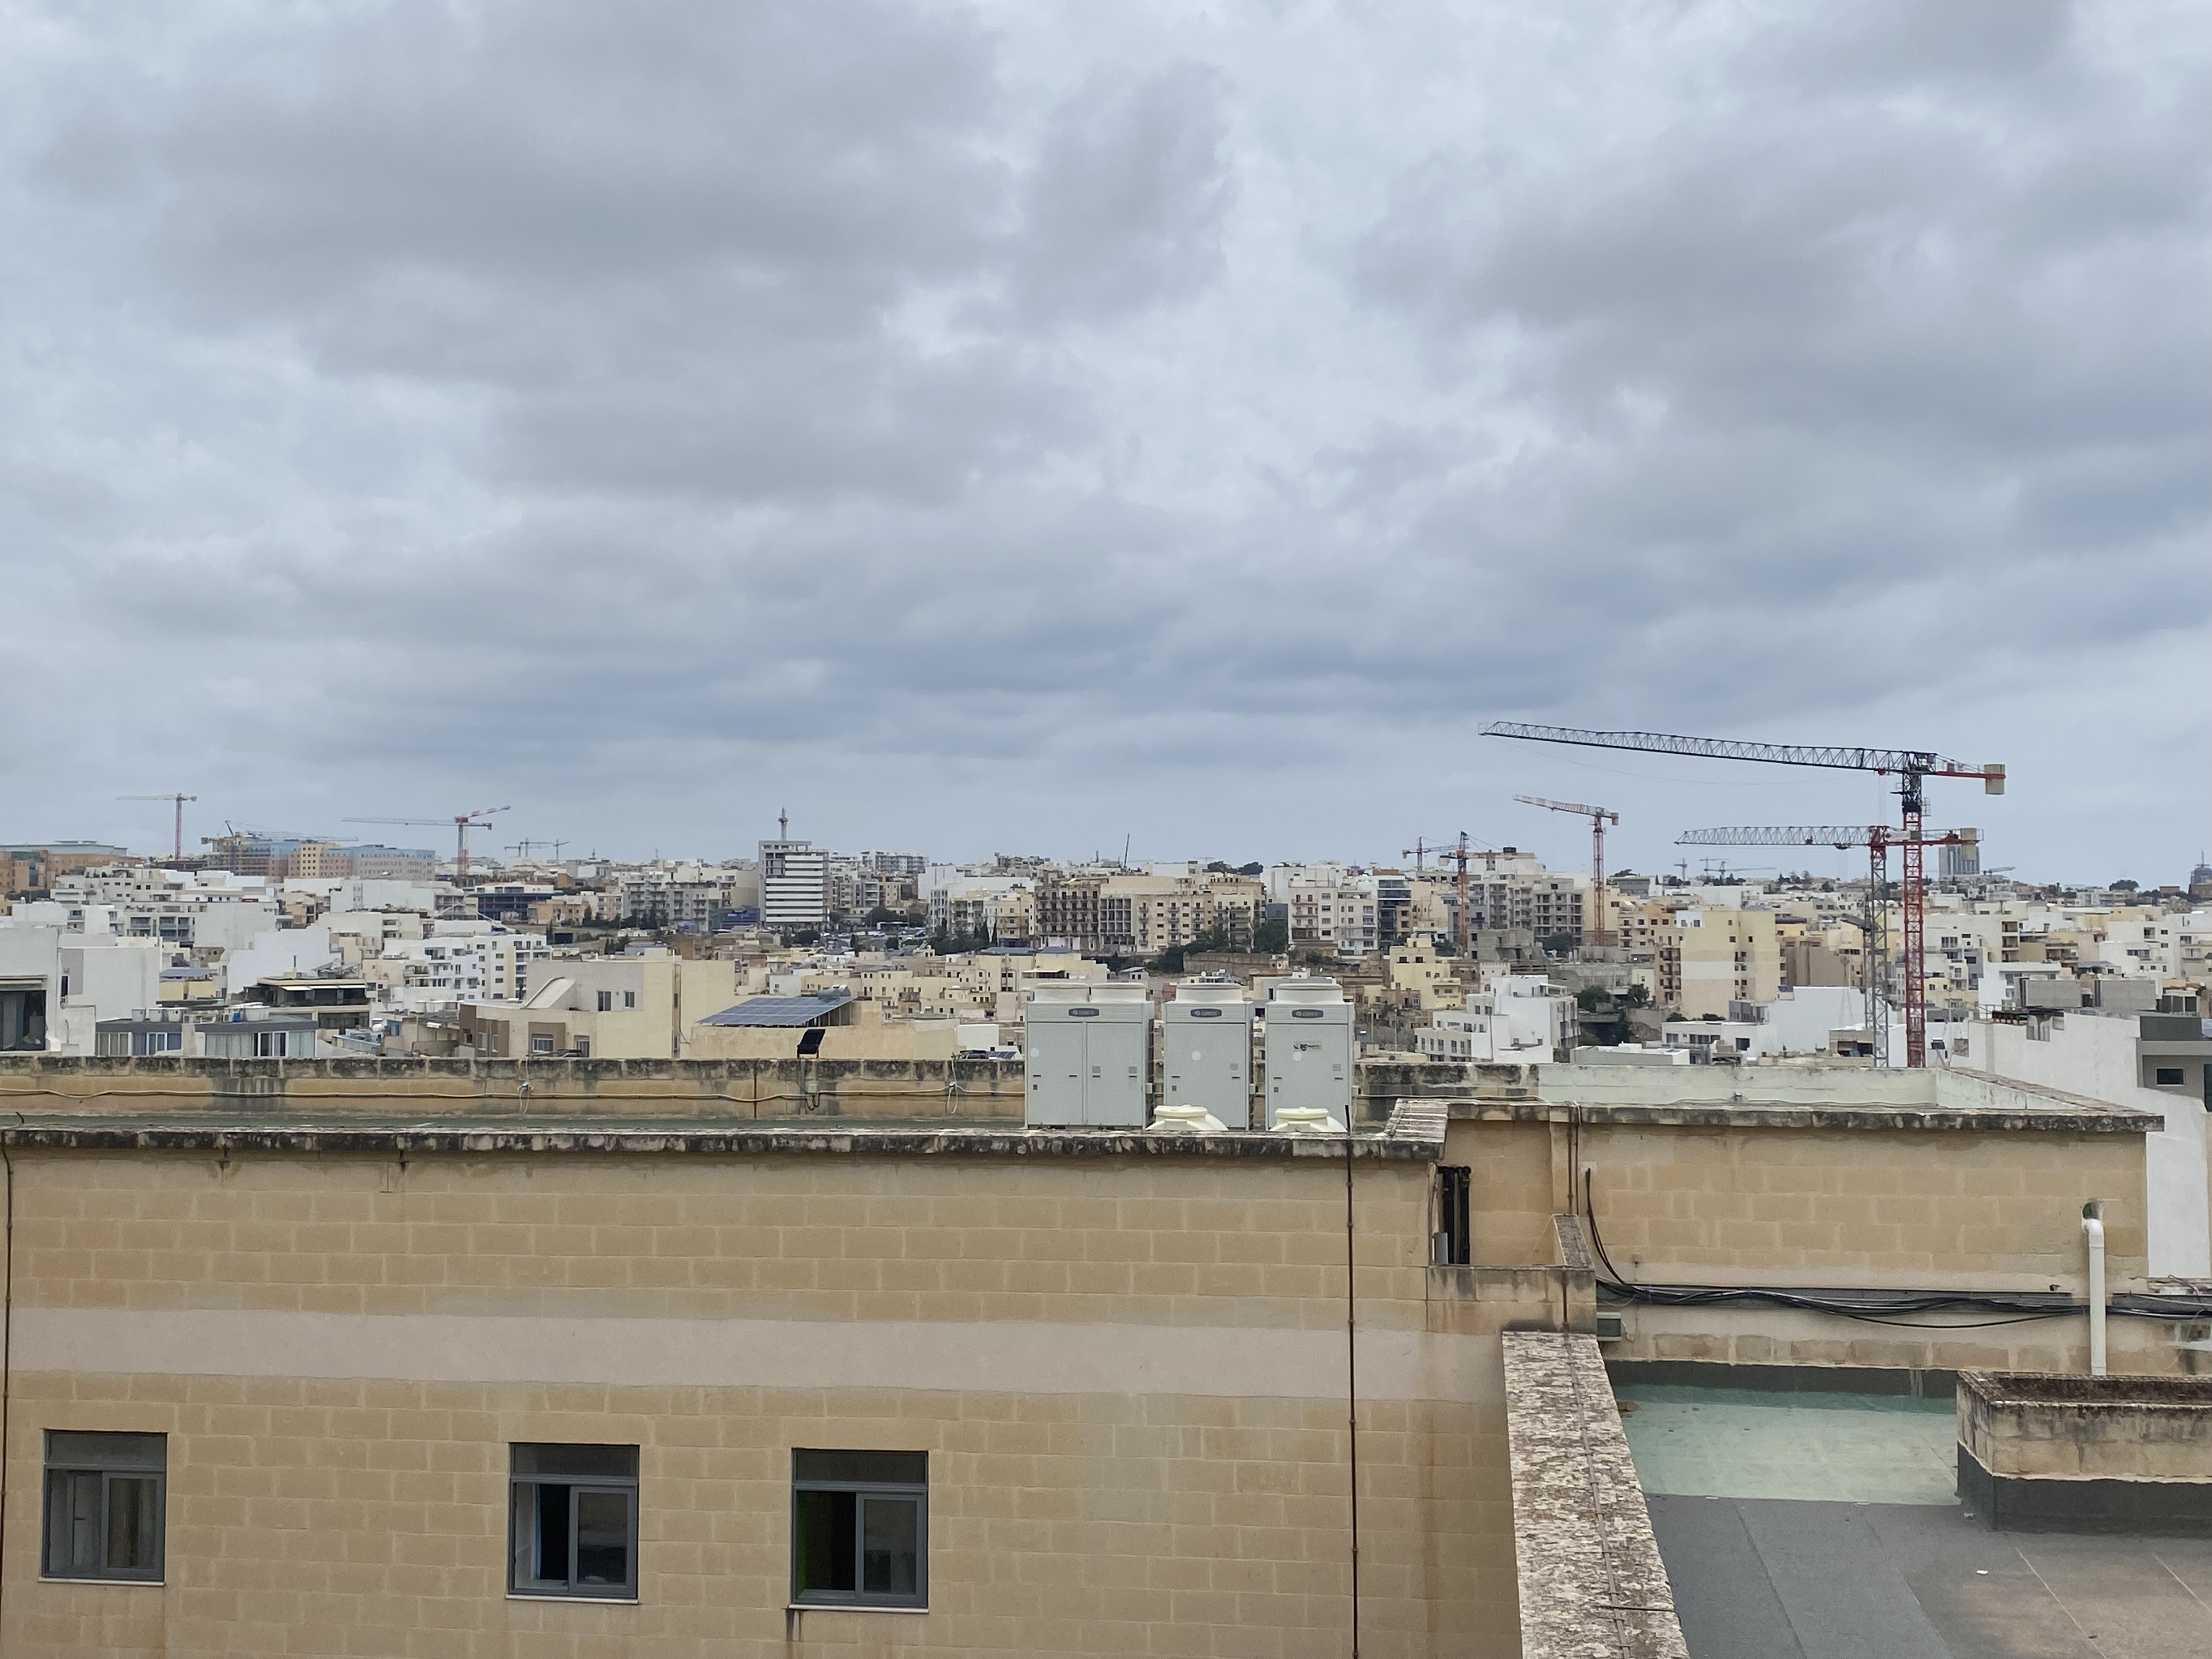Crane: (1460, 699, 2019, 1079), (1665, 817, 1993, 1061), (1505, 781, 1630, 901), (345, 803, 503, 885), (101, 782, 214, 857), (1393, 835, 1472, 885)
